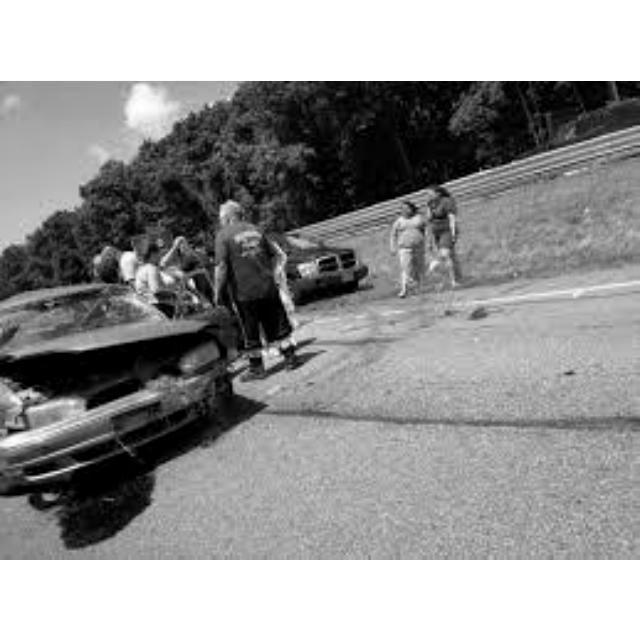bonnet-dent: (8, 312, 200, 376)
